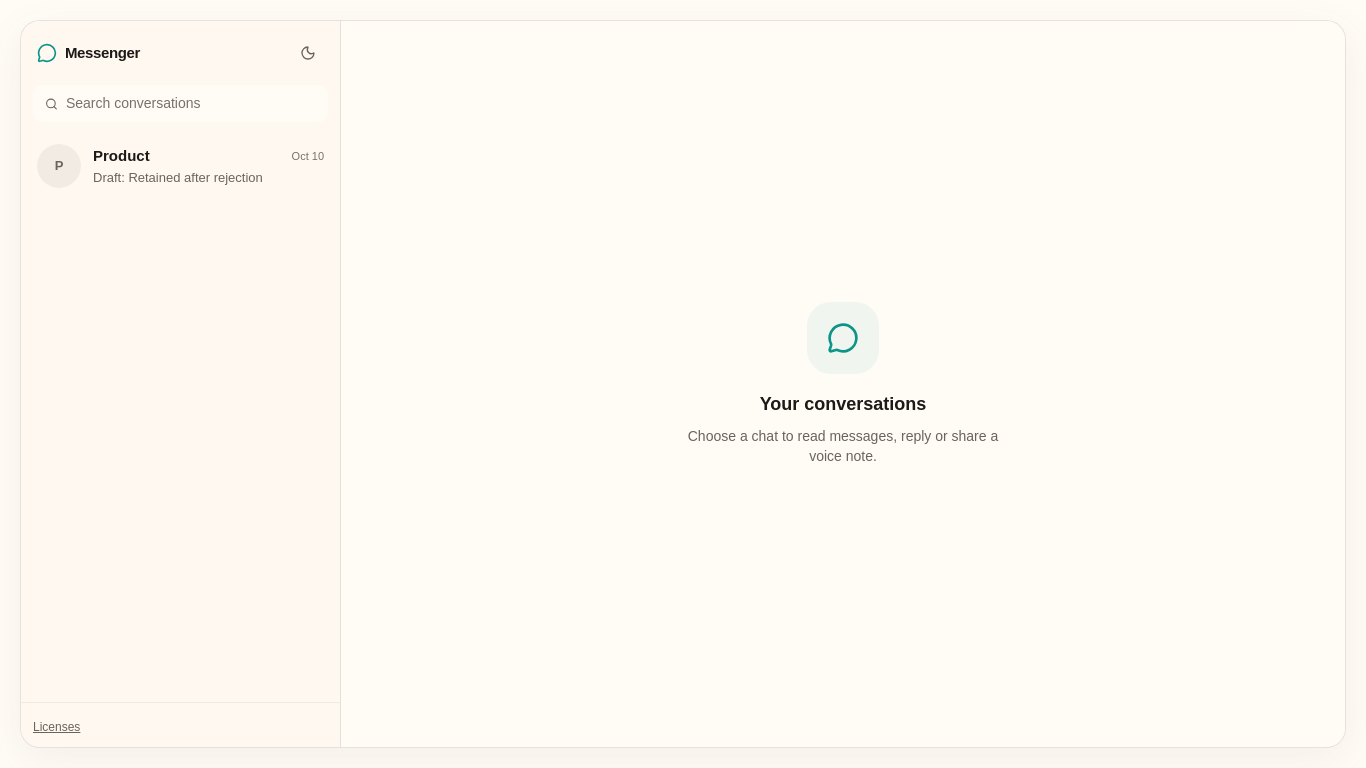
Test: shows a returned creation draft refusal beside the restored composer
Click the button with aria-label "Open Product chat": (59, 166) [25,134,336,198]
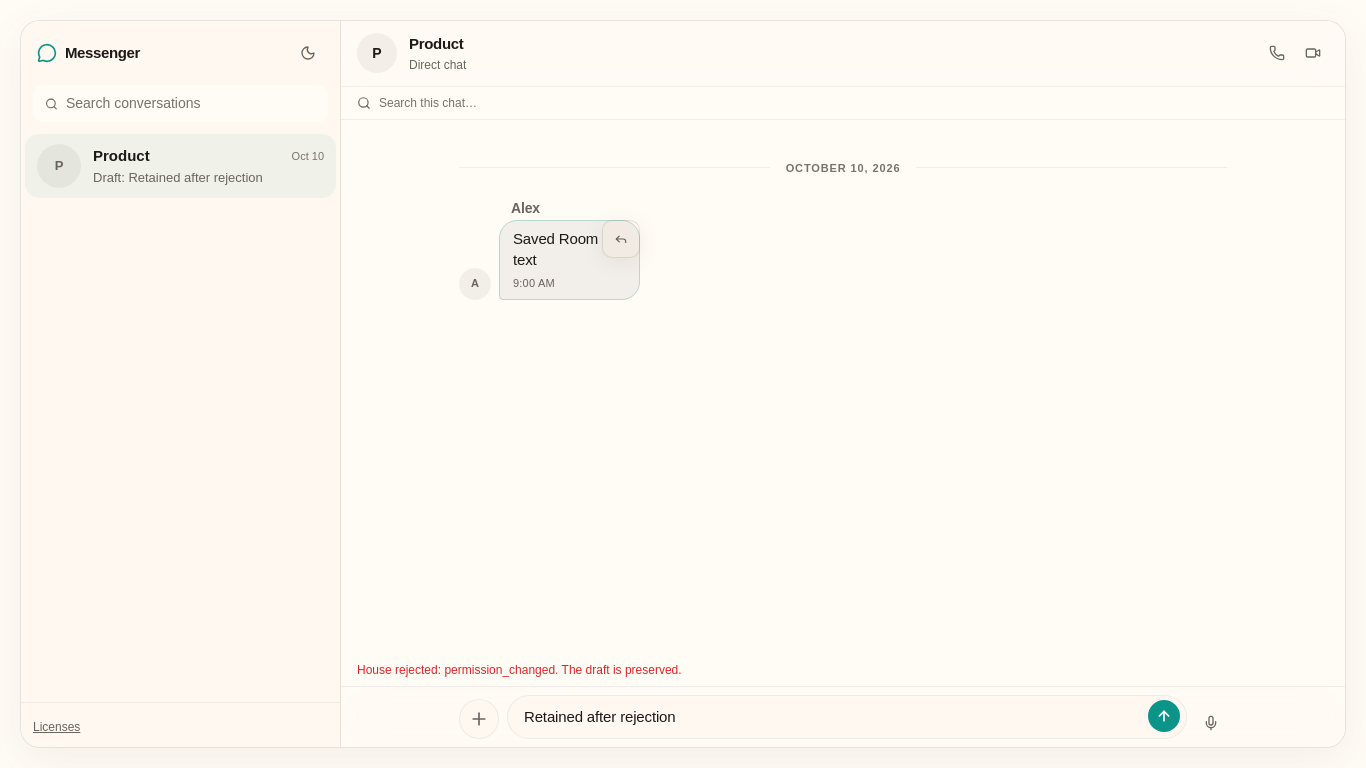
Now the text box named "Message" holds "Retained after rejection", box [508,696,1186,738]
Now the message shows "permission_changed", box [357,663,682,677]
